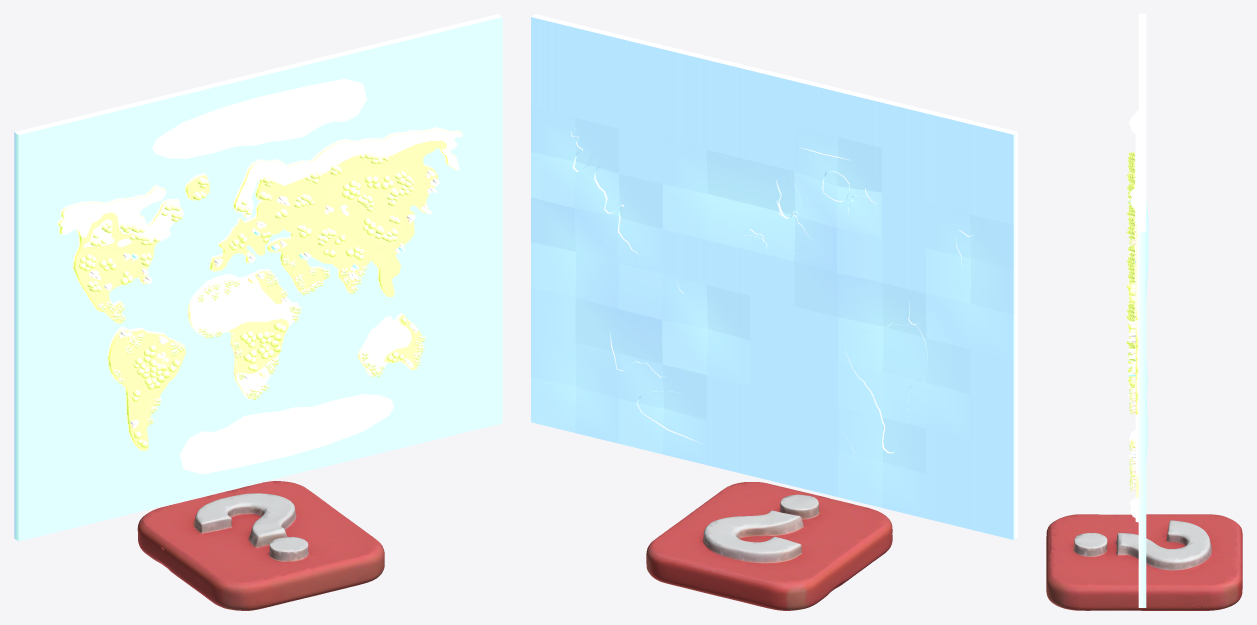
File: map.glb
The picture shows the model from 3 angles, left to right: view 1: azimuth 30°, elevation 25°; view 2: azimuth 150°, elevation 25°; view 3: azimuth 270°, elevation 25°; orthographic projection. The views are drawn at different scales.
Visible parts, largest first — view 1: Water, markc, Eurasia, South, North, Plane_snow, Plane_forest, Down, Africa, America_2, America_1, Plane_green (+2 smaller); view 2: Down, markc; view 3: markc, Down, Eurasia, North.
Part boxes in pixels (x1,y1,x2,y2): Water: [18, 17, 502, 541]; markc: [137, 481, 384, 610]; Eurasia: [209, 127, 461, 296]; South: [180, 394, 393, 474]; North: [152, 79, 366, 158]; Plane_snow: [60, 129, 462, 247]; Plane_forest: [75, 167, 416, 426]; Down: [14, 14, 501, 541]; Africa: [188, 269, 299, 399]; America_2: [107, 326, 185, 450]; America_1: [57, 185, 182, 323]; Plane_green: [228, 271, 422, 373]; Down: [531, 14, 1017, 539]; markc: [646, 482, 892, 610]; markc: [1046, 514, 1242, 610]; Down: [1138, 14, 1148, 607]; Eurasia: [1135, 223, 1138, 415]; North: [1135, 111, 1138, 223].
Size of the model in its own units: 5.26 by 5.06 by 2.
Materials: 3 (1 with a texture image).
